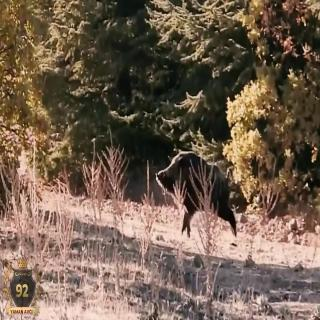Pig: (158, 142, 243, 226)
